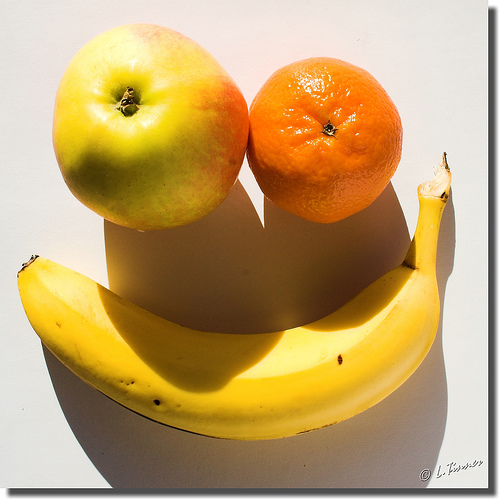apple: (50, 18, 248, 231)
